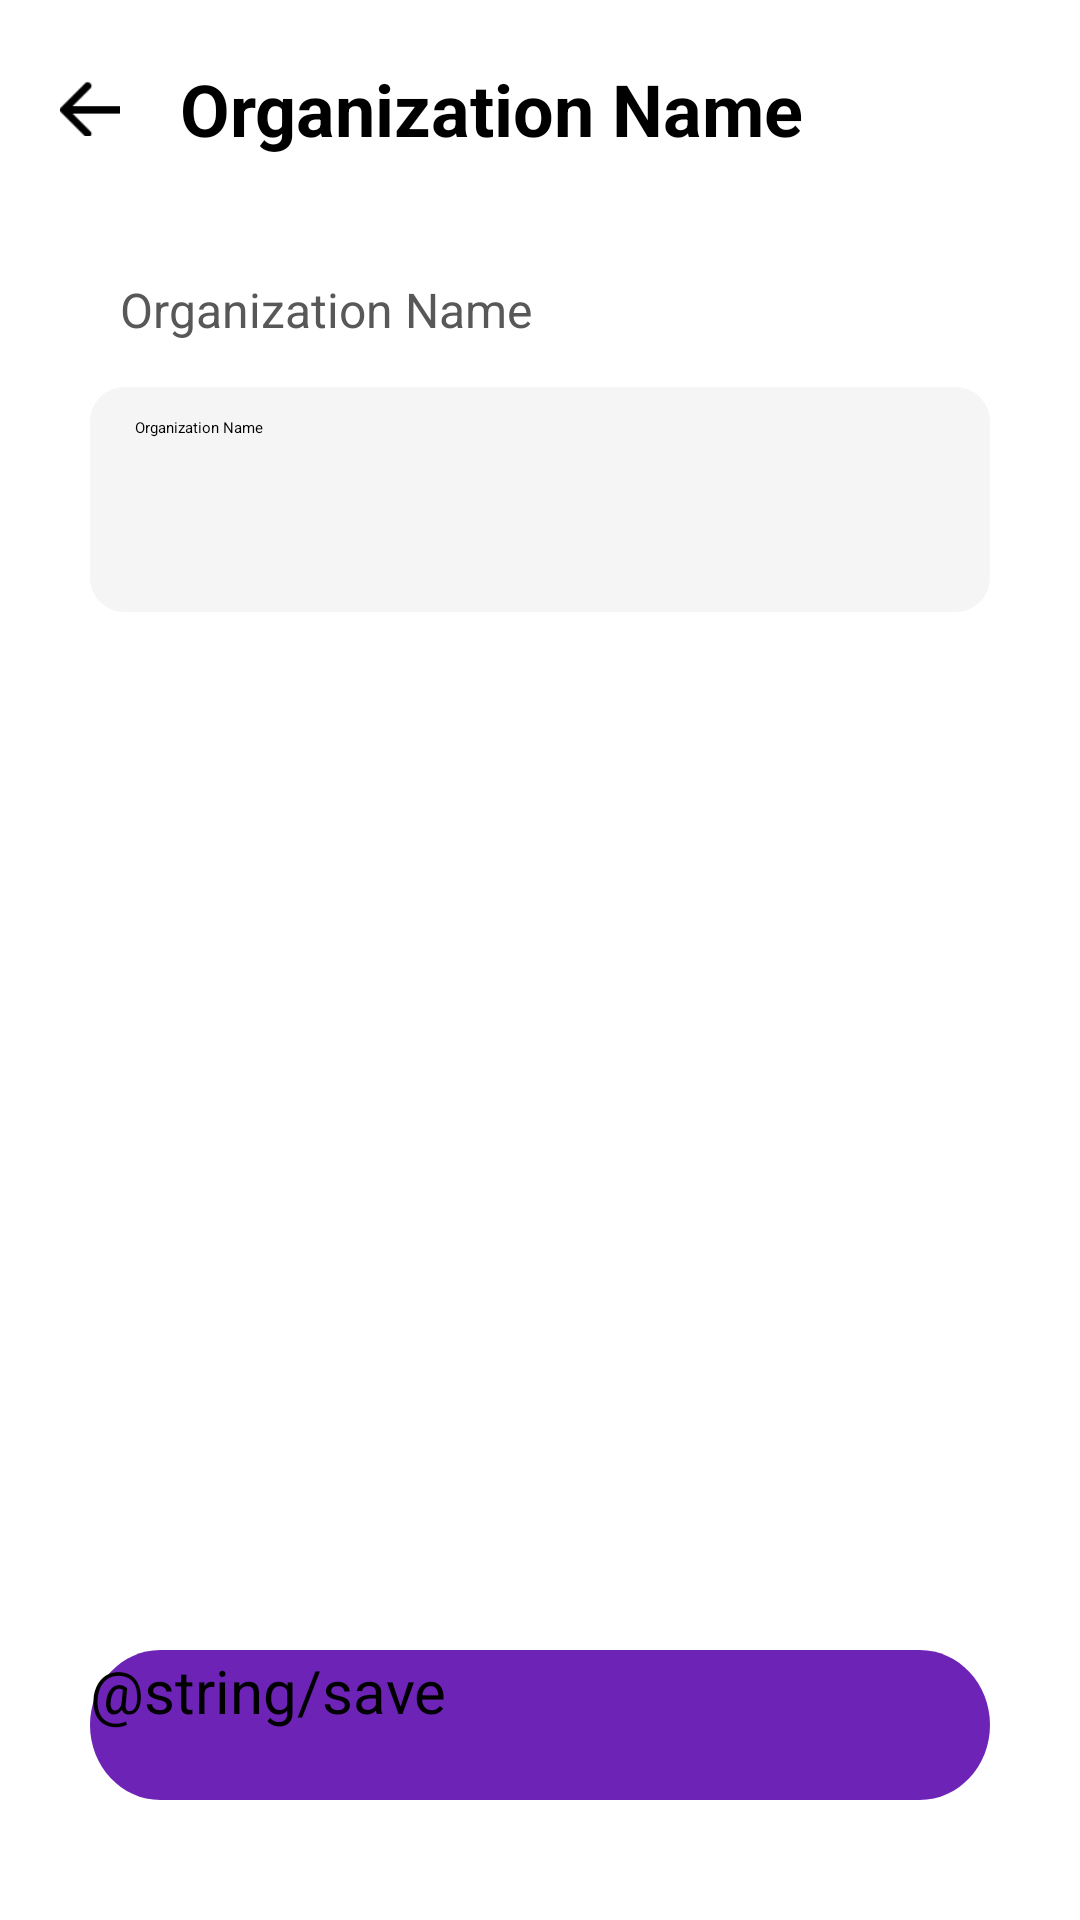

Icon click points for this 1080 × 1920 phone screenshot, format (x=x, y=y):
back arrow: (x=90, y=109)
